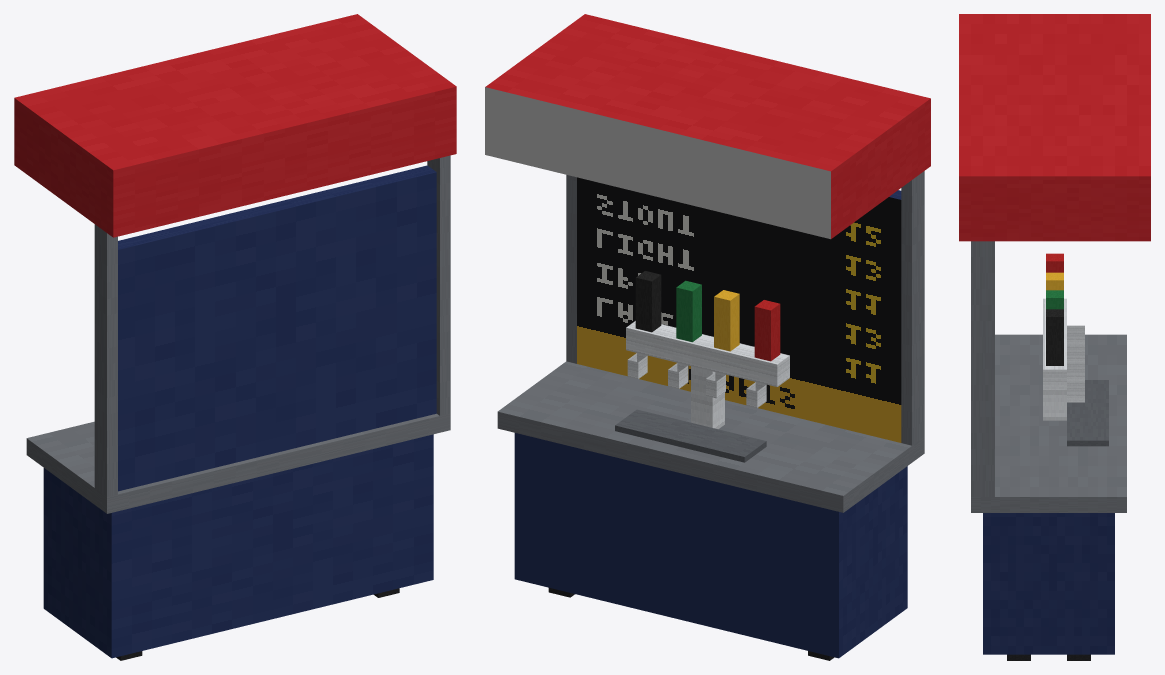
Rendered from beer_kiosk.obj.
The picture shows the model from 3 angles, left to right: view 1: azimuth 30°, elevation 25°; view 2: azimuth 150°, elevation 25°; view 3: azimuth 270°, elevation 25°; orthographic projection. The views are drawn at different scales.
Visible parts, largest first — view 1: beer_kiosk; view 2: beer_kiosk; view 3: beer_kiosk.
Part boxes in pixels (x1=…): beer_kiosk: x1=14, y1=14, x2=456, y2=660; beer_kiosk: x1=485, y1=14, x2=930, y2=660; beer_kiosk: x1=959, y1=14, x2=1150, y2=660.
Size of the model in its own units: 2 by 2.88 by 1.
